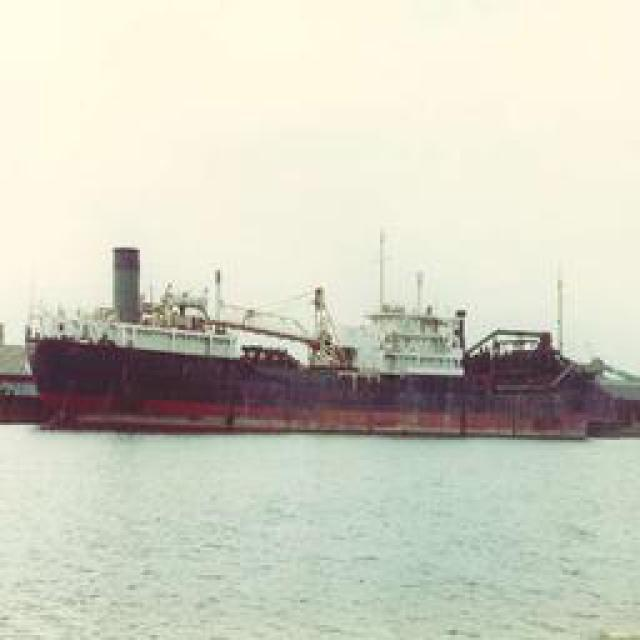Ship: (15, 276, 635, 441)
